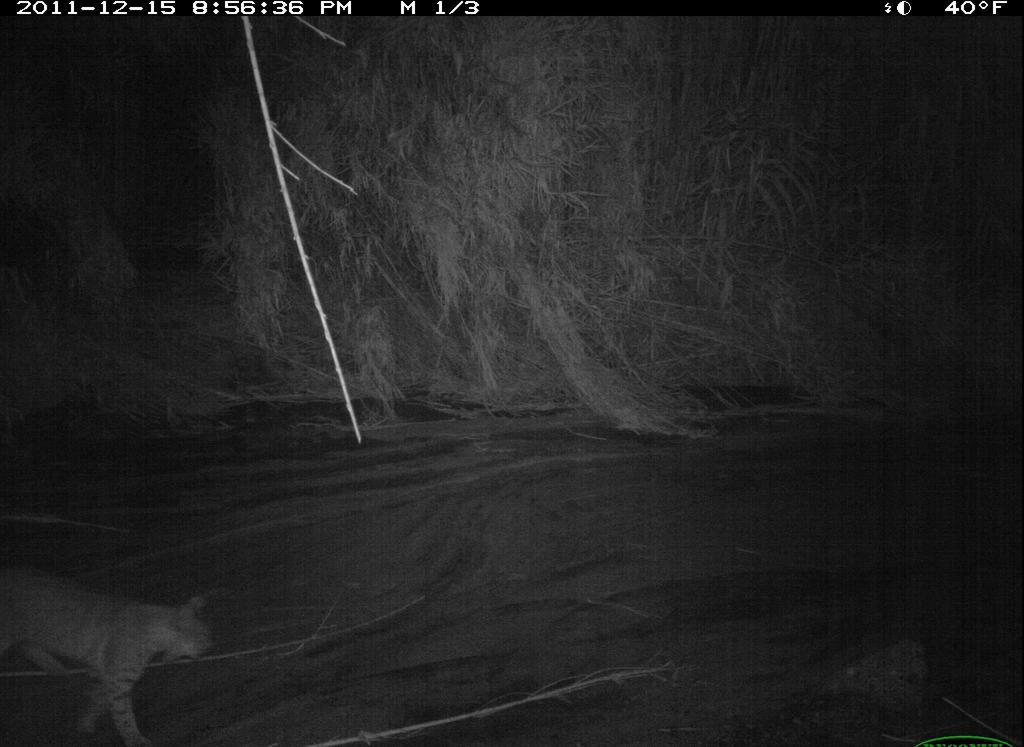bobcat: (6, 542, 219, 747)
